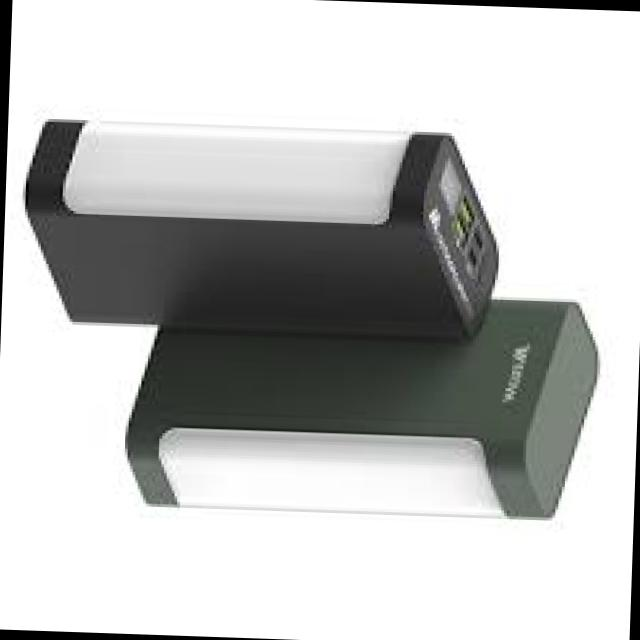portable-charger: (116, 278, 606, 530), (13, 115, 510, 342)
